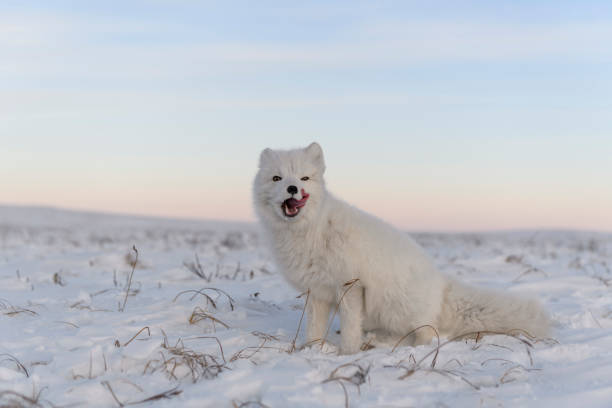arcticfox: (268, 160, 325, 228)
